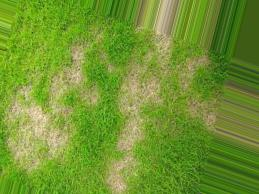patch: (124, 74, 140, 189), (18, 96, 57, 139), (64, 59, 93, 89)
